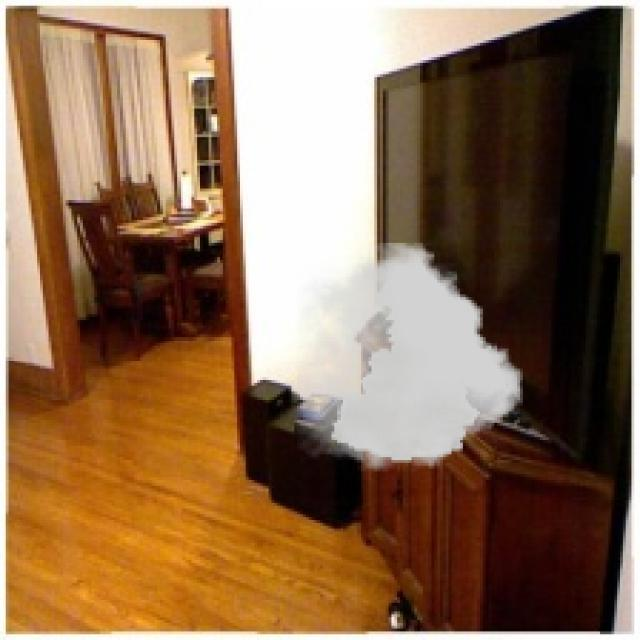smoke: (297, 243, 523, 471)
